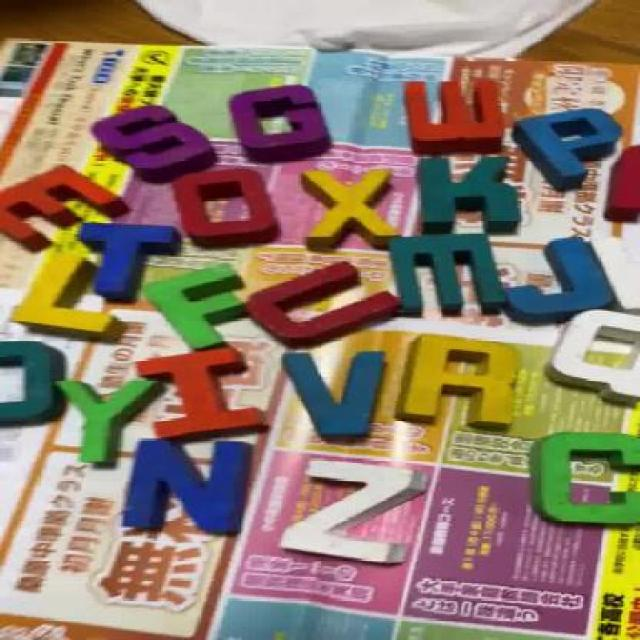C: (530, 429, 639, 525)
E: (0, 164, 129, 244)
F: (152, 264, 245, 350)
G: (221, 83, 337, 159)
I: (134, 352, 260, 438)
J: (508, 238, 610, 322)
K: (412, 155, 516, 227)
L: (19, 254, 126, 340)
M: (384, 238, 502, 316)
N: (125, 439, 253, 533)
O: (177, 168, 286, 248)
P: (518, 104, 632, 178)
Q: (542, 305, 640, 406)
R: (395, 334, 530, 428)
S: (93, 104, 224, 179)
T: (66, 217, 179, 294)
U: (228, 262, 403, 341)
V: (279, 348, 384, 443)
W: (402, 79, 500, 155)
X: (307, 168, 408, 242)
Y: (61, 379, 167, 466)
Z: (282, 456, 430, 570)
